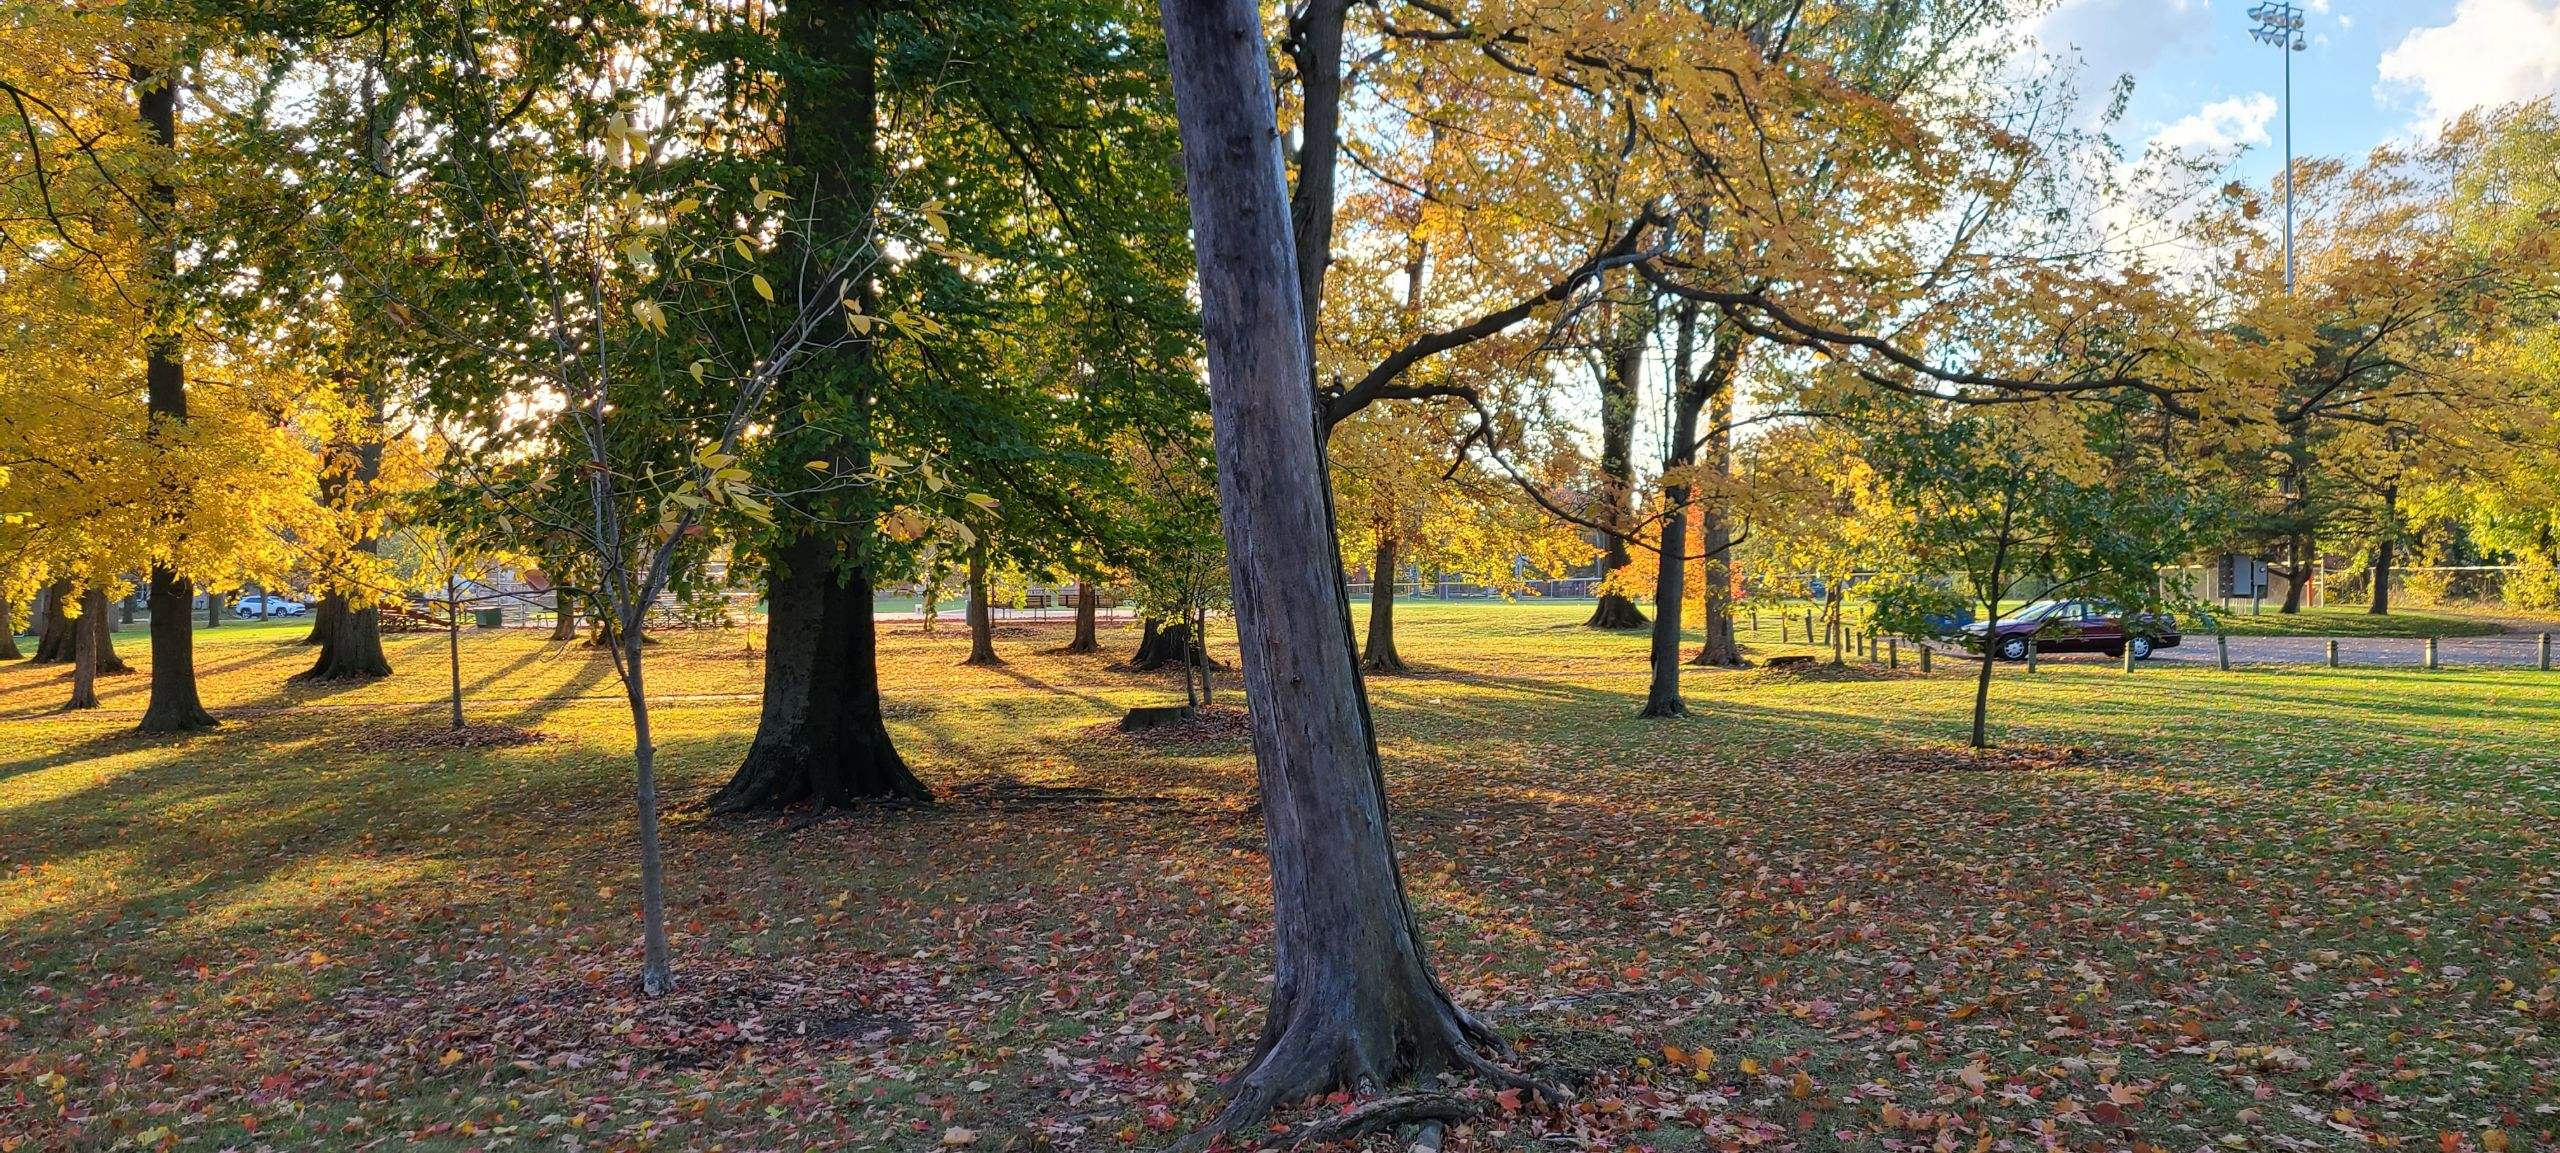tree: (1159, 2, 1541, 1097), (462, 206, 754, 1009), (735, 2, 940, 820), (307, 13, 402, 678), (127, 13, 212, 738), (1634, 85, 1726, 720), (1365, 98, 1456, 660), (1592, 155, 1652, 621), (1958, 438, 2028, 750), (1704, 343, 1750, 668), (1061, 353, 1105, 653), (970, 367, 1011, 663), (65, 447, 104, 706)
